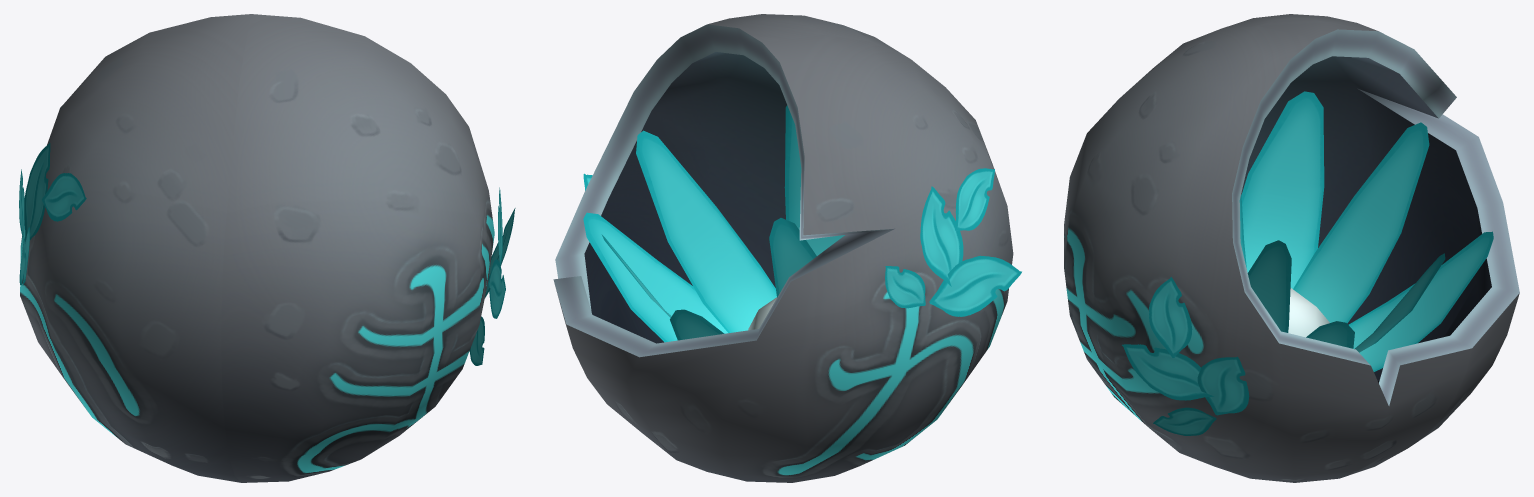
The model's file is SM_Item_Switch.fbx.
3 views of the same model, side by side, from view 1: azimuth 30°, elevation 25°; view 2: azimuth 150°, elevation 25°; view 3: azimuth 270°, elevation 25° (orthographic). The views are drawn at different scales.
Visible parts, largest first — view 1: SM_Item_Switch; view 2: SM_Item_Switch; view 3: SM_Item_Switch.
Boxes of the visible parts, x1=… form: SM_Item_Switch: x1=19, y1=14, x2=515, y2=482; SM_Item_Switch: x1=553, y1=14, x2=1021, y2=482; SM_Item_Switch: x1=1064, y1=14, x2=1519, y2=482.
Bounding box in the file's own units: 59.33 × 50.35 × 49.06.
